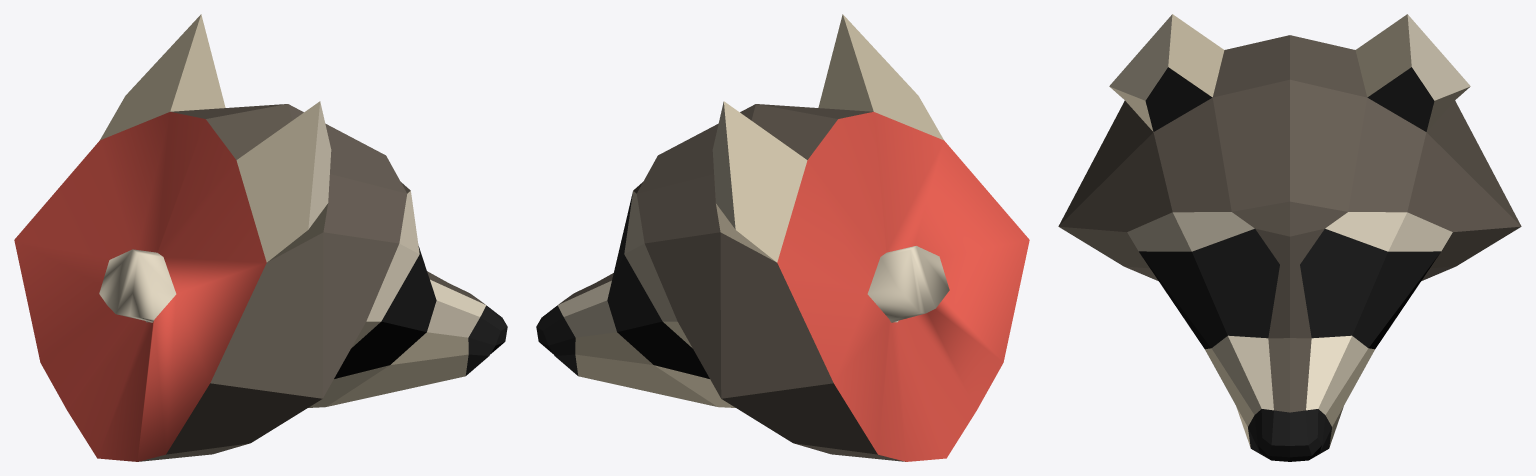
The model's file is racoon-head.glb.
3 renders of one model, left to right at view 1: azimuth 30°, elevation 25°; view 2: azimuth 150°, elevation 25°; view 3: azimuth 270°, elevation 25°, orthographic.
Visible parts, largest first — view 1: Head; view 2: Head; view 3: Head.
Part boxes in pixels (bbox=[...]): Head: bbox=[14, 14, 507, 461]; Head: bbox=[536, 14, 1029, 461]; Head: bbox=[1058, 14, 1521, 461].
Bounding box in the file's own units: 1.2 × 1.02 × 1.21.
